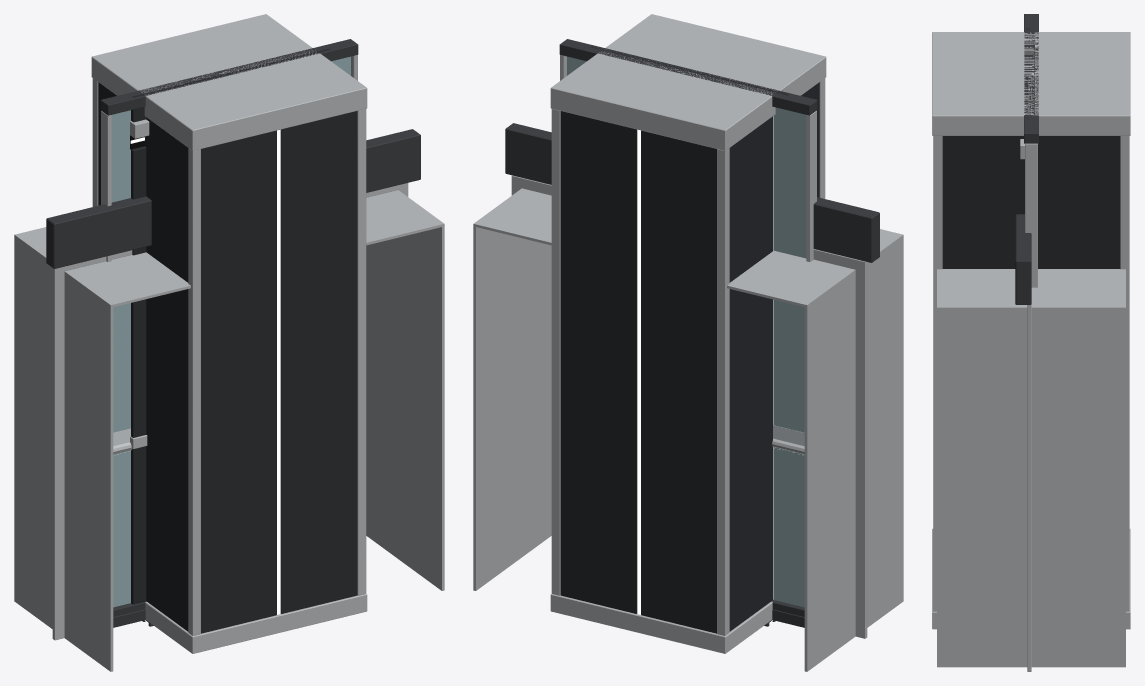
Rendered from facility-kit.glb.
3 views of the same model, side by side, from view 1: azimuth 30°, elevation 25°; view 2: azimuth 150°, elevation 25°; view 3: azimuth 270°, elevation 25° (orthographic).
Visible parts, largest first — view 1: column.composite, doorJamb.metal, column.metal, doorFrame.metalDark, wallPanel.composite, doorFrame.metal, glassClear.glass, glassClear.metalDark, handrail.glass, column.led, glassClear.metal; view 2: column.composite, doorJamb.metal, column.metal, glassClear.glass, doorFrame.metalDark, doorFrame.metal, handrail.glass, glassClear.metalDark, column.led, glassClear.metal; view 3: doorJamb.metal, column.metal, column.composite, glassClear.metalDark, doorFrame.metal, glassClear.metal, doorFrame.metalDark.
Boxes of the visible parts, x1=… form: column.composite: x1=98, y1=82, x2=357, y2=633; doorJamb.metal: x1=14, y1=190, x2=444, y2=671; column.metal: x1=91, y1=14, x2=367, y2=653; doorFrame.metalDark: x1=46, y1=129, x2=420, y2=268; wallPanel.composite: x1=131, y1=49, x2=330, y2=604; doorFrame.metal: x1=52, y1=183, x2=408, y2=640; glassClear.glass: x1=111, y1=56, x2=350, y2=505; glassClear.metalDark: x1=100, y1=39, x2=358, y2=627; handrail.glass: x1=113, y1=454, x2=130, y2=607; column.led: x1=277, y1=129, x2=280, y2=614; glassClear.metal: x1=101, y1=55, x2=357, y2=261; column.composite: x1=560, y1=82, x2=819, y2=633; doorJamb.metal: x1=473, y1=188, x2=903, y2=671; column.metal: x1=550, y1=14, x2=826, y2=653; glassClear.glass: x1=567, y1=56, x2=806, y2=600; doorFrame.metalDark: x1=505, y1=123, x2=879, y2=262; doorFrame.metal: x1=511, y1=175, x2=867, y2=638; handrail.glass: x1=773, y1=451, x2=804, y2=607; glassClear.metalDark: x1=559, y1=39, x2=817, y2=627; column.led: x1=637, y1=116, x2=773, y2=614; glassClear.metal: x1=560, y1=55, x2=816, y2=261; doorJamb.metal: x1=937, y1=269, x2=1125, y2=667; column.metal: x1=932, y1=32, x2=1130, y2=629; column.composite: x1=942, y1=136, x2=1120, y2=268; glassClear.metalDark: x1=1024, y1=14, x2=1038, y2=143; doorFrame.metal: x1=1027, y1=304, x2=1031, y2=671; glassClear.metal: x1=1025, y1=143, x2=1037, y2=287; doorFrame.metalDark: x1=1015, y1=214, x2=1031, y2=304.
Bounding box in the file's own units: 2.2 × 3.05 × 1.05.
